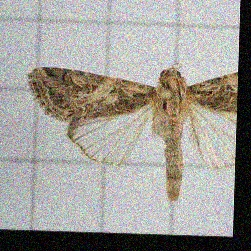Spodoptera litura: (22, 60, 236, 201)
